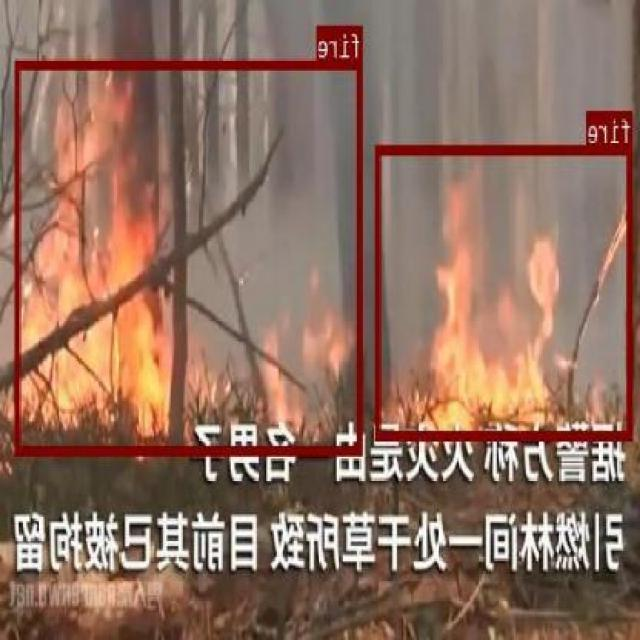Fire: (16, 59, 364, 453), (377, 143, 634, 440)
